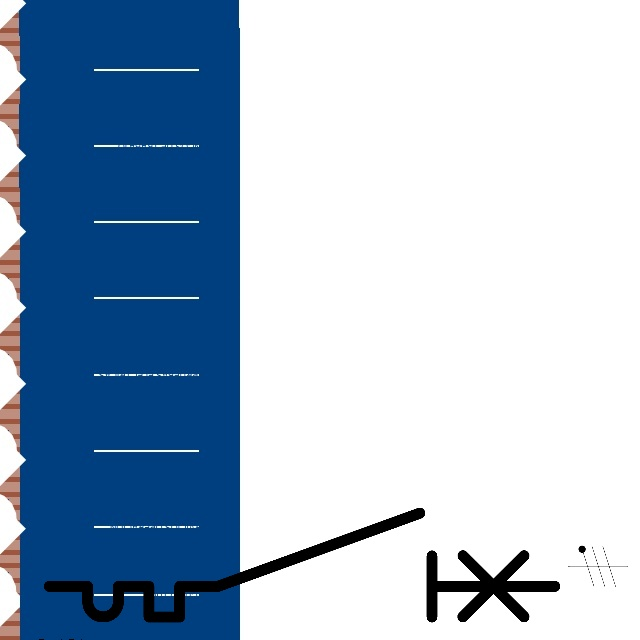interruptor_termomagnetico: (36, 500, 568, 630)
